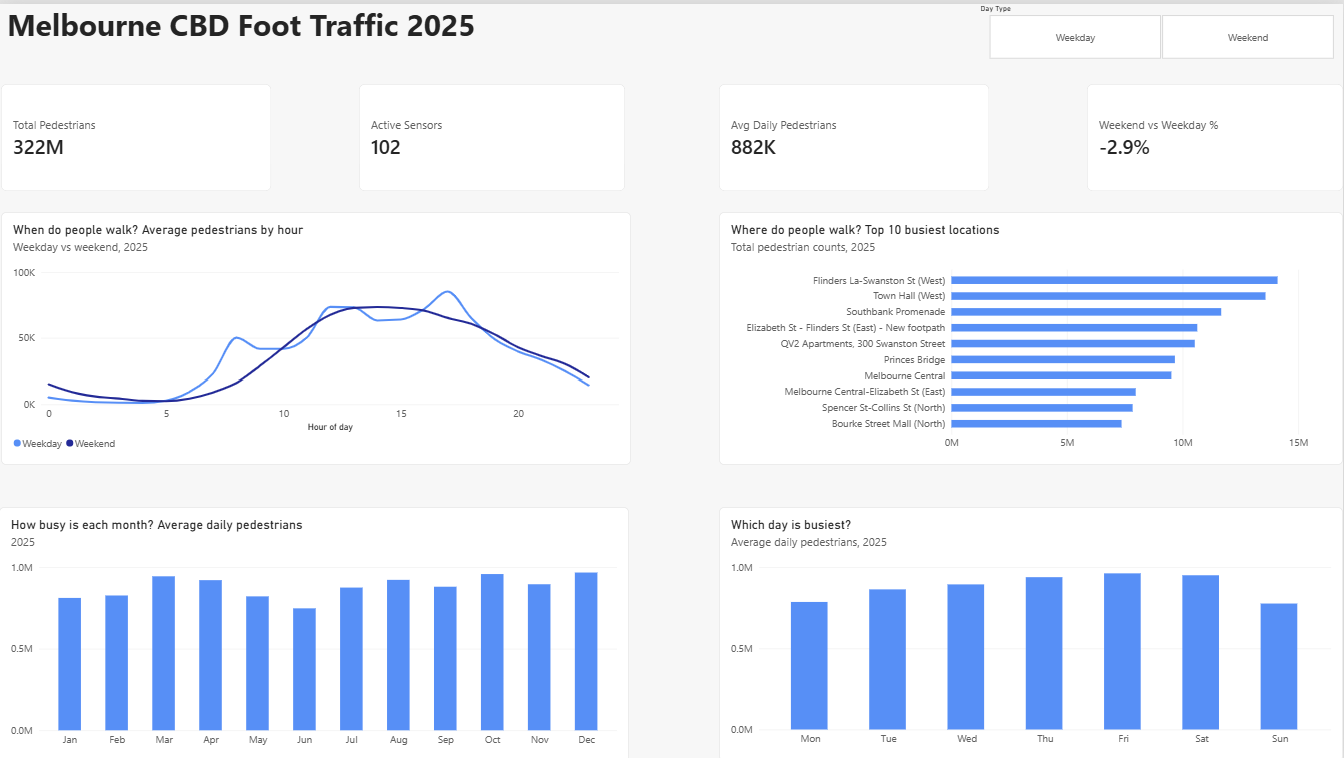

Layout of this report page (visuals, bound fields, positions):
{"tool":"powerbi","page":{"name":"Page 1","canvas":[1920,1080],"ordinal":0},"visuals":[{"type":"textbox","box":[11.4,0,693,230.1],"z":0},{"type":"cardVisual","fields":{"Data":["Counts.Total Pedestrians"]},"box":[2.9,114.3,386.3,153.4],"z":1000},{"type":"cardVisual","fields":{"Data":["Counts.Active Sensors"]},"box":[514.3,114.3,380.6,153.4],"z":2000},{"type":"cardVisual","fields":{"Data":["Counts.Avg Daily Pedestrians"]},"box":[1028.6,114.3,386.3,153.4],"z":3000},{"type":"cardVisual","fields":{"Data":["Counts.Weekend vs Weekday %"]},"box":[1554.3,114.3,366.4,153.4],"z":4000},{"type":"lineChart","title":"When do people walk? Average pedestrians by hour","fields":{"Category":["Counts.Hour"],"Series":["Date.Day Type"],"Y":["Counts.Avg Daily Pedestrians"]},"box":[2.9,297.1,900,360],"z":5000},{"type":"barChart","title":"Where do people walk? Top 10 busiest locations","fields":{"Category":["Sensors.Sensor"],"Y":["Counts.Total Pedestrians"]},"box":[1028.6,297.1,891.4,360],"z":6000},{"type":"columnChart","title":"How busy is each month? Average daily pedestrians","fields":{"Category":["Date.Month"],"Y":["Counts.Avg Daily Pedestrians"]},"box":[0,717.1,900,364],"z":7000},{"type":"slicer","fields":{"Values":["Date.Day Type"]},"box":[1394.3,0,531.4,80],"z":8000},{"type":"clusteredColumnChart","title":"Which day is busiest?","fields":{"Category":["Date.Day"],"Y":["Counts.Avg Daily Pedestrians"]},"box":[1028.6,717.1,891.4,362.9],"z":8001}]}

Visuals, with their boxes in screenshot pixels (x1, y1, x2, y2), scaled from the page's 1920x1080 canvas onto the 1344x758 screenshot:
textbox: [x1=8, y1=0, x2=493, y2=161]
cardVisual - Counts.Total Pedestrians: [x1=2, y1=80, x2=272, y2=188]
cardVisual - Counts.Active Sensors: [x1=360, y1=80, x2=626, y2=188]
cardVisual - Counts.Avg Daily Pedestrians: [x1=720, y1=80, x2=990, y2=188]
cardVisual - Counts.Weekend vs Weekday %: [x1=1088, y1=80, x2=1343, y2=188]
"When do people walk? Average pedestrians by hour" lineChart: [x1=2, y1=209, x2=632, y2=461]
"Where do people walk? Top 10 busiest locations" barChart: [x1=720, y1=209, x2=1343, y2=461]
"How busy is each month? Average daily pedestrians" columnChart: [x1=0, y1=503, x2=630, y2=757]
slicer - Date.Day Type: [x1=976, y1=0, x2=1343, y2=56]
"Which day is busiest?" clusteredColumnChart: [x1=720, y1=503, x2=1343, y2=757]
